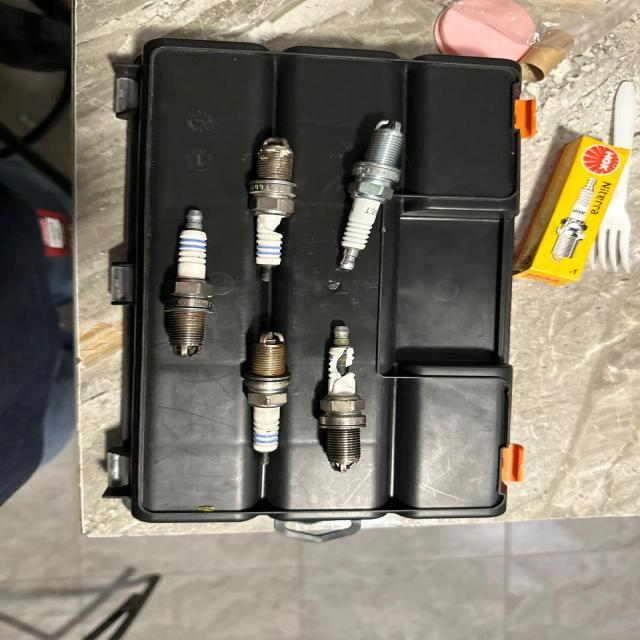damaged_spark-plug: (238, 130, 312, 288), (312, 312, 368, 473)
spark-plug: (332, 112, 423, 280), (236, 327, 294, 476), (169, 204, 216, 363)
